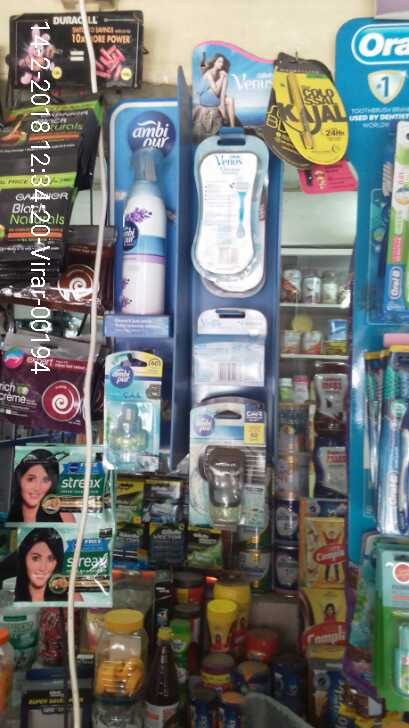ambipure: (187, 404, 273, 541), (109, 141, 169, 318), (96, 347, 169, 481)
